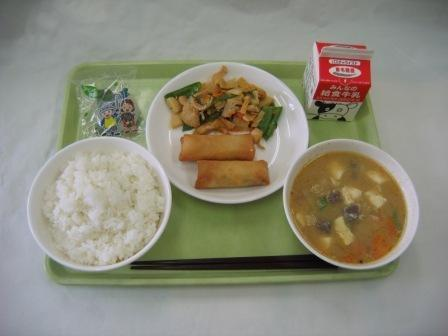Milk: (292, 38, 383, 124)
Rice: (18, 140, 177, 271)
Soups: (286, 140, 421, 275)
crepe w filling: (173, 126, 286, 202)
vegetable based cooked food: (170, 68, 282, 135)
